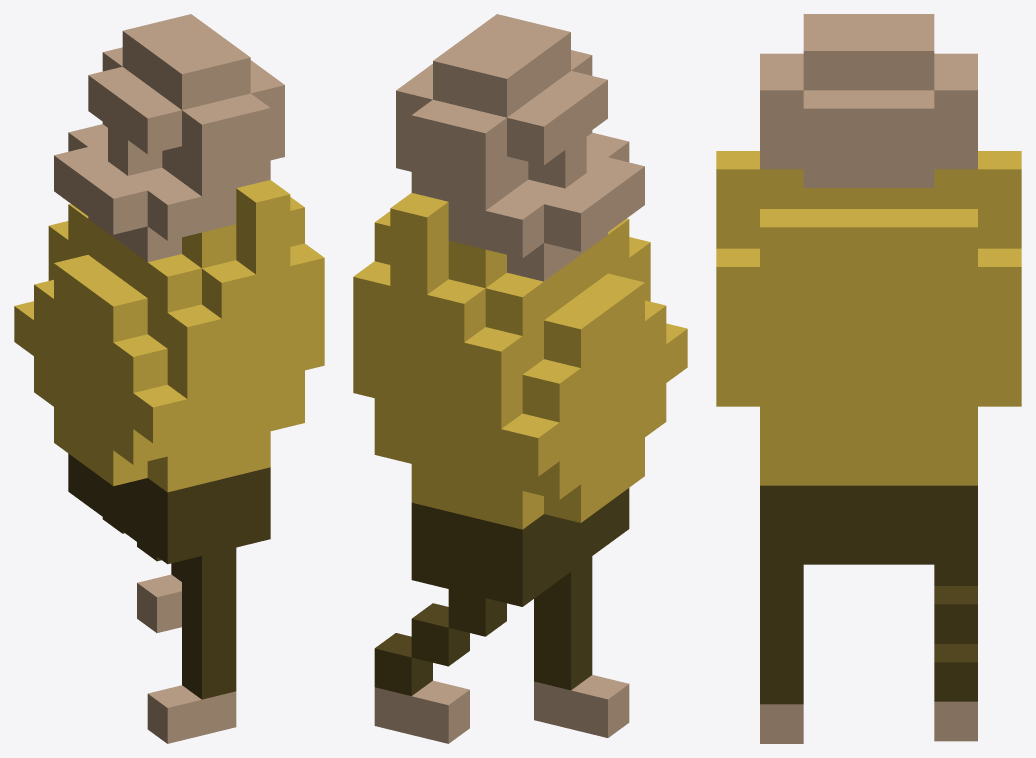
Rendered from orc-9-torso_walk.obj.
3 renders of one model, left to right at view 1: azimuth 30°, elevation 25°; view 2: azimuth 150°, elevation 25°; view 3: azimuth 270°, elevation 25°, orthographic. The views are drawn at different scales.
Parts seen in each view (by area): view 1: torso_walk; view 2: torso_walk; view 3: torso_walk.
Boxes of the visible parts, <box> form: torso_walk: <box>14,14,324,743</box>; torso_walk: <box>353,14,687,743</box>; torso_walk: <box>716,14,1021,743</box>.
Bounding box in the file's own units: 0.5 × 1.8 × 0.7.
Materials: 1 (1 with a texture image).
